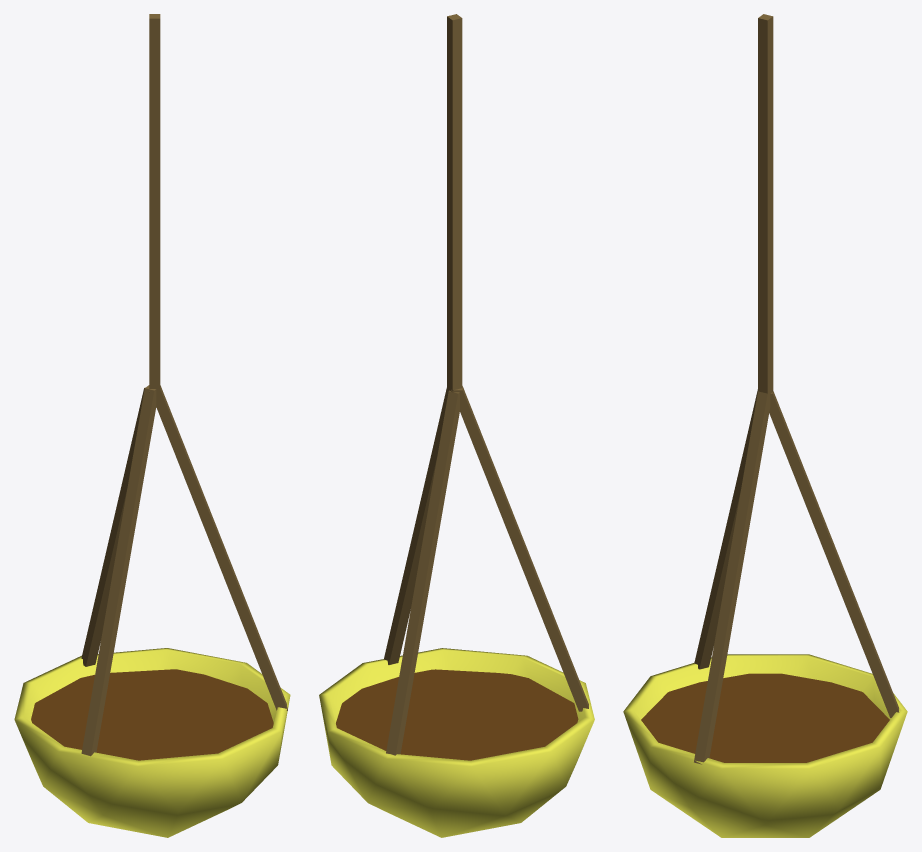
The model's file is hangingPot.fbx.
The picture shows the model from 3 angles, left to right: view 1: azimuth 30°, elevation 25°; view 2: azimuth 150°, elevation 25°; view 3: azimuth 270°, elevation 25°; orthographic projection.
Visible parts, largest first — view 1: Hanging Pot; view 2: Hanging Pot; view 3: Hanging Pot.
Boxes of the visible parts, x1,y1,x2,y2 form: Hanging Pot: (14, 14, 290, 837); Hanging Pot: (319, 14, 594, 837); Hanging Pot: (623, 14, 907, 837).
Size of the model in its own units: 36.05 by 37.9 by 120.
